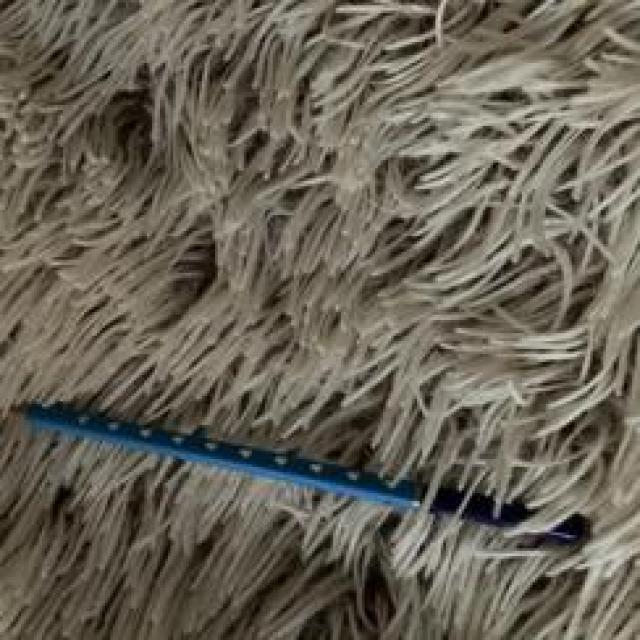pencil: (16, 407, 595, 543)
